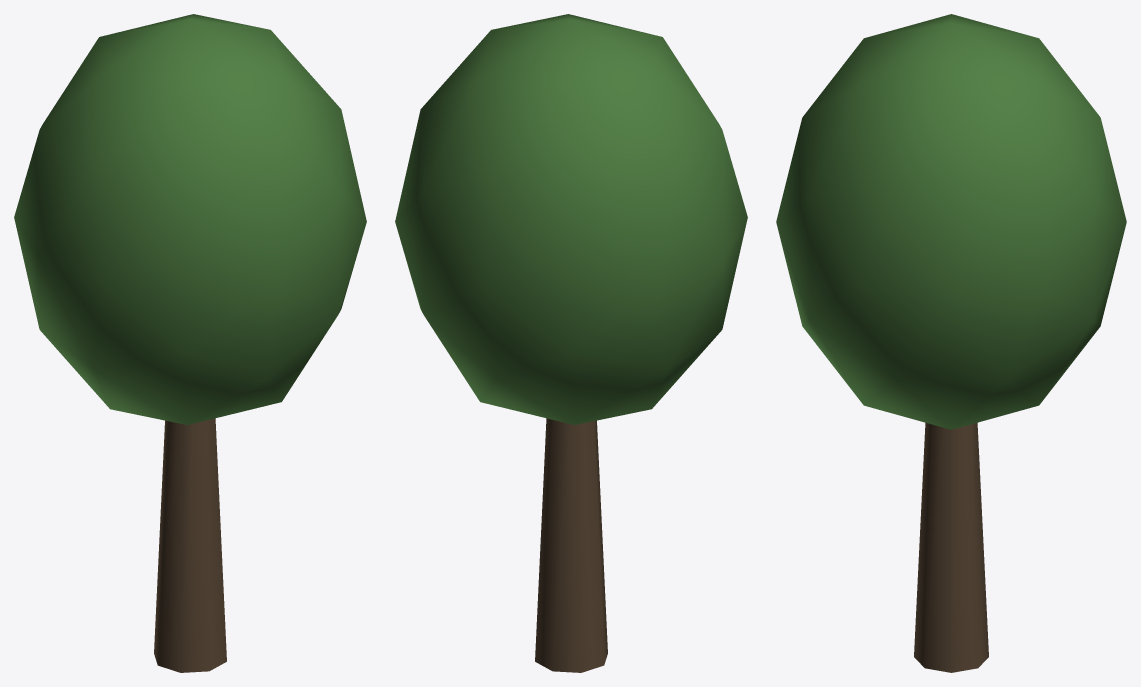
File: planta.glb
3 views of the same model, side by side, from view 1: azimuth 30°, elevation 25°; view 2: azimuth 150°, elevation 25°; view 3: azimuth 270°, elevation 25° (orthographic).
Bounding box in the file's own units: 0.84 × 1.67 × 0.84.
